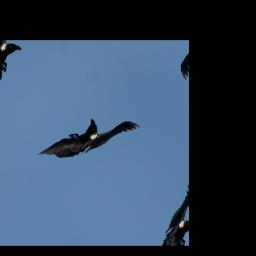Crow: (37, 89, 141, 193)
